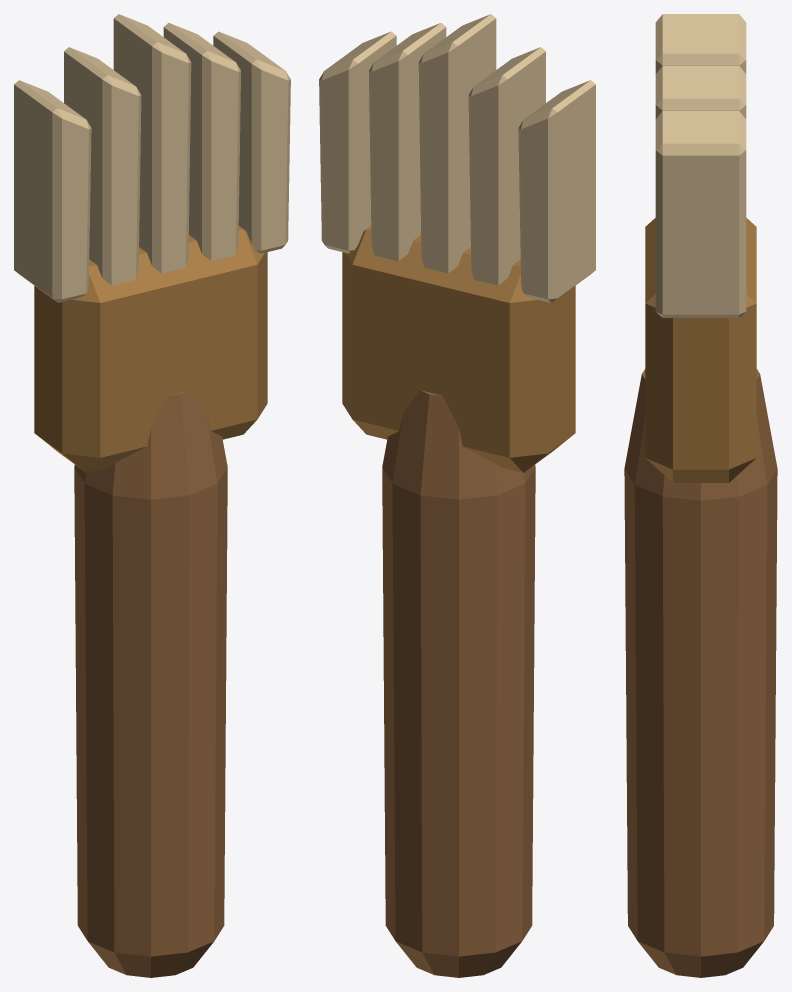
The model's file is MINING_BRUSH.lo.glb.
3 views of the same model, side by side, from view 1: azimuth 30°, elevation 25°; view 2: azimuth 150°, elevation 25°; view 3: azimuth 270°, elevation 25° (orthographic).
Visible parts, largest first — view 1: Body_Mesh; view 2: Body_Mesh; view 3: Body_Mesh.
Boxes of the visible parts, box(x1,y1,x2,y2) form: Body_Mesh: box(14, 14, 290, 977); Body_Mesh: box(319, 14, 595, 977); Body_Mesh: box(624, 14, 777, 977).
Bounding box in the file's own units: 0.079 × 0.295 × 0.044.
Materials: 1 (1 with a texture image).
